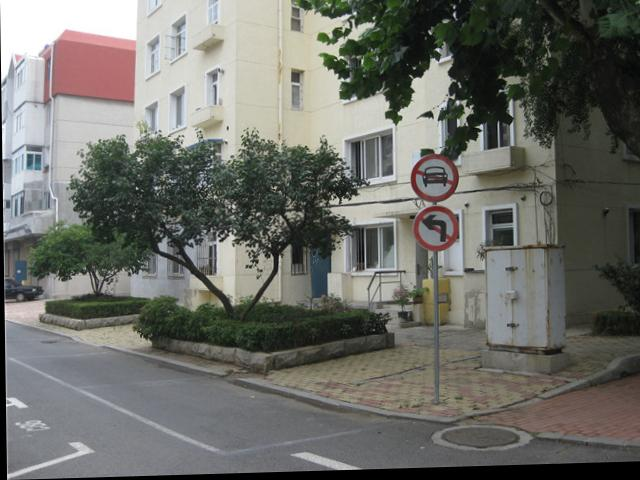not_turn_left: (411, 207, 461, 255)
